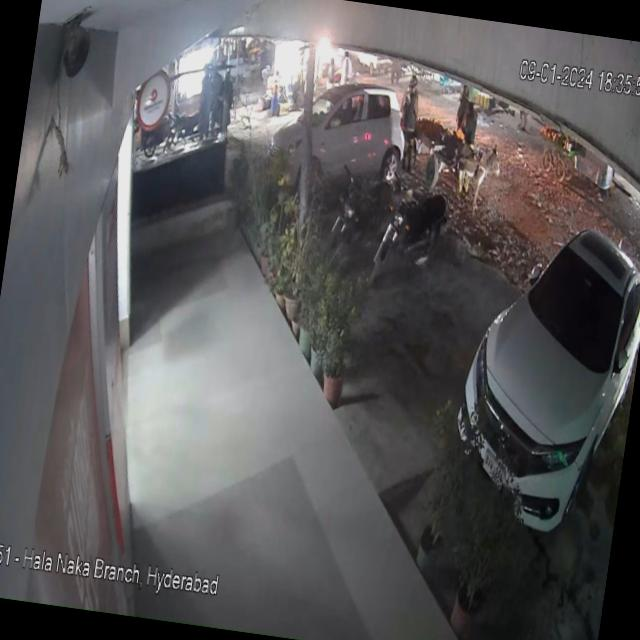Car: (441, 196, 640, 560), (262, 74, 428, 212)
Motorcycle: (371, 168, 456, 302), (325, 170, 394, 277)
